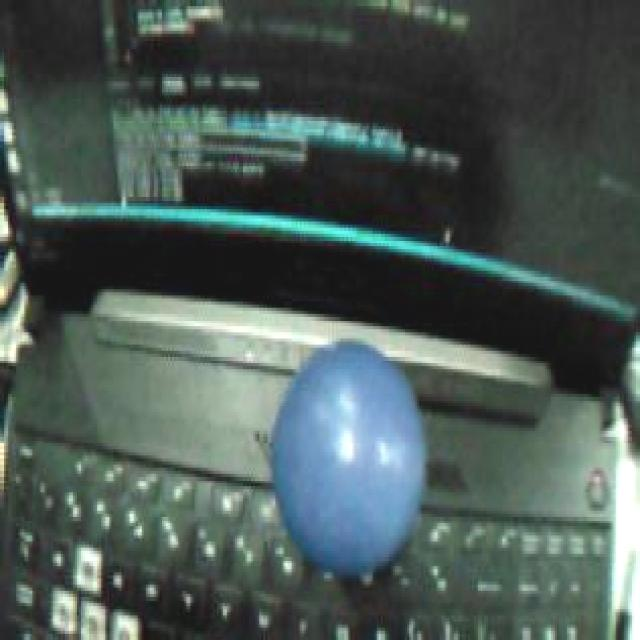BallPurple: (271, 340, 427, 576)
